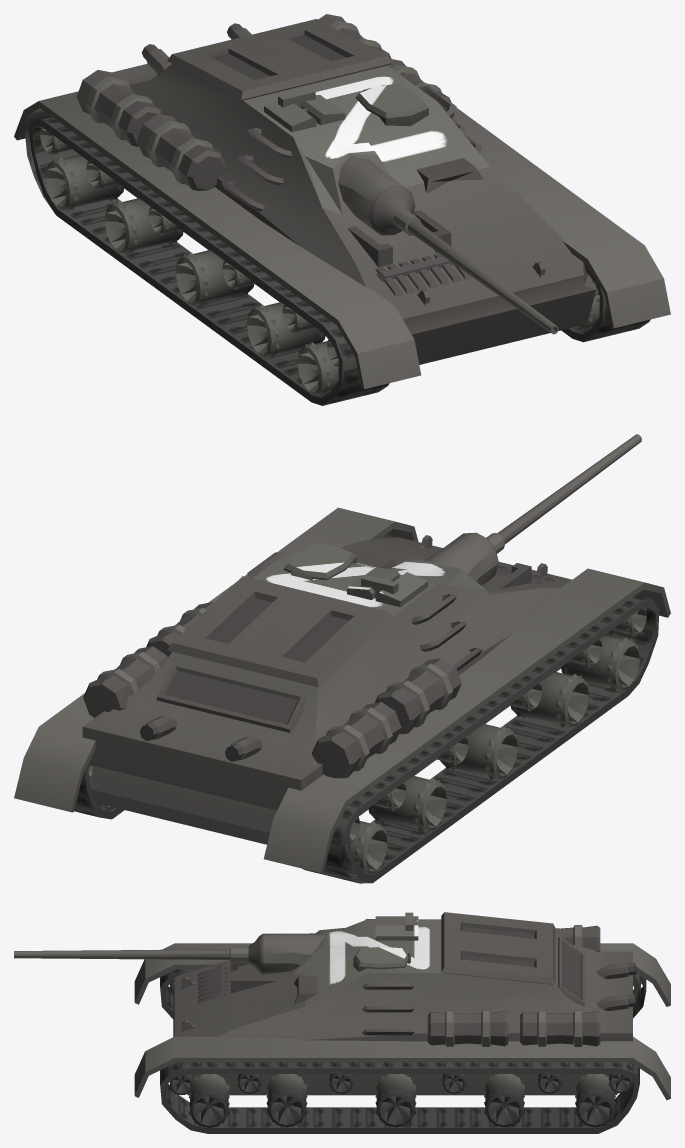
File: tank.fbx
3 renders of one model, top to bottom at view 1: azimuth 30°, elevation 25°; view 2: azimuth 150°, elevation 25°; view 3: azimuth 270°, elevation 25°, orthographic. The views are drawn at different scales.
Visible parts, largest first — view 1: Tank, Tank_Caterpillar_Left, Whell_Right_10, Whell_Right_8, Whell_Right_6, Whell_Right_4, Whell_Right_2, Tank_Caterpillar_Right; view 2: Tank, Tank_Caterpillar_Left, Whell_Right_6, Whell_Right_4, Whell_Right_8, Whell_Right_2, Whell_Right_10; view 3: Tank, Tank_Caterpillar_Right, Whell_Left_6, Whell_Left_4, Whell_Left_8, Whell_Left_2, Whell_Left_10, Tank_Caterpillar_Left, Whell_Left_5, Whell_Left_3, Whell_Left_9, Whell_Left_7 (+2 smaller).
Boxes of the visible parts, x1,y1,x2,y2 form: Tank: (14, 14, 670, 405); Tank_Caterpillar_Left: (25, 114, 389, 405); Whell_Right_10: (45, 154, 123, 211); Whell_Right_8: (104, 198, 183, 254); Whell_Right_6: (175, 250, 254, 306); Whell_Right_4: (246, 302, 325, 358); Whell_Right_2: (297, 341, 338, 395); Tank_Caterpillar_Right: (569, 288, 650, 341); Tank: (14, 434, 670, 882); Tank_Caterpillar_Left: (302, 595, 655, 883); Whell_Right_6: (440, 724, 518, 780); Whell_Right_4: (510, 671, 589, 728); Whell_Right_8: (368, 775, 447, 832); Whell_Right_2: (561, 635, 640, 691); Whell_Right_10: (345, 821, 387, 874); Tank: (14, 912, 670, 1133); Tank_Caterpillar_Right: (160, 1062, 639, 1127); Whell_Left_6: (375, 1074, 416, 1127); Whell_Left_4: (266, 1074, 307, 1127); Whell_Left_8: (484, 1074, 524, 1127); Whell_Left_2: (189, 1074, 229, 1127); Whell_Left_10: (575, 1074, 615, 1127); Tank_Caterpillar_Left: (160, 969, 646, 1018); Whell_Left_5: (329, 1074, 353, 1093); Whell_Left_3: (237, 1074, 261, 1093); Whell_Left_9: (537, 1074, 562, 1093); Whell_Left_7: (442, 1074, 466, 1093).
Bounding box in the file's own units: 443 × 242 × 1026.
